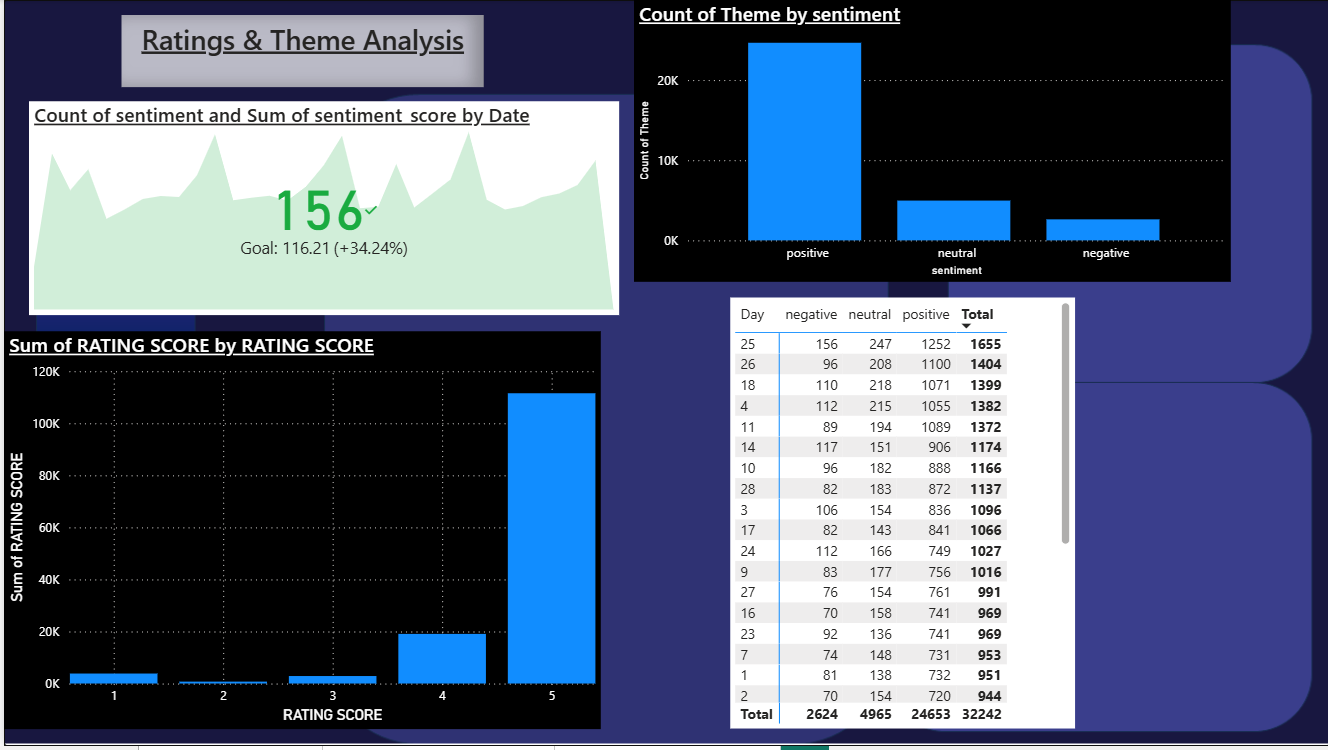

This screenshot's page, from the dashboard's own definition file:
{"tool":"powerbi","page":{"name":"Ratings & Theme Analysis","canvas":[1280,720],"ordinal":2},"visuals":[{"type":"kpi","fields":{"TrendLine":["Sheet1.Date"],"Indicator":["CountNonNull(Sheet1.sentiment)"],"Goal":["Sum(Sheet1.sentiment_score)"]},"box":[24.1,97.7,569.4,206.3],"z":0},{"type":"clusteredColumnChart","fields":{"Category":["Sheet1.RATING SCORE"],"Y":["Sum(Sheet1.RATING SCORE)"]},"box":[0,320,576,384],"z":1000},{"type":"clusteredColumnChart","fields":{"Category":["Sheet1.sentiment"],"Y":["CountNonNull(Sheet1.Theme)"]},"box":[608,0,576,272],"z":2000},{"type":"pivotTable","fields":{"Columns":["Sheet1.sentiment"],"Values":["CountNonNull(Sheet1.sentiment_score)"],"Rows":["Sheet1.Date.Variation.Date Hierarchy.Day"]},"box":[608,288,288,416],"z":3000},{"type":"tableEx","fields":{"Values":["Sheet1.REVIEW","Avg(Sheet1.RATING SCORE)","Sheet1.sentiment","Sheet1.Theme","Sheet1.Date.Variation.Date Hierarchy.Year","Sheet1.Date.Variation.Date Hierarchy.Quarter","Sheet1.Date.Variation.Date Hierarchy.Month","Sheet1.Date.Variation.Date Hierarchy.Day"]},"box":[912,304,368,416],"z":4000},{"type":"textbox","box":[113.4,14.5,349.9,70],"z":5000}]}

Visuals, with their boxes in screenshot pixels (x1, y1, x2, y2), scaled from the page's 1280x720 canvas onto the 1328x750 screenshot:
kpi - Sheet1.Date x CountNonNull(Sheet1.sentiment): box(25, 102, 616, 317)
clusteredColumnChart - Sheet1.RATING SCORE x Sum(Sheet1.RATING SCORE): box(0, 333, 598, 733)
clusteredColumnChart - Sheet1.sentiment x CountNonNull(Sheet1.Theme): box(631, 0, 1228, 283)
pivotTable - Sheet1.sentiment x CountNonNull(Sheet1.sentiment_score): box(631, 300, 930, 733)
tableEx - Sheet1.REVIEW x Avg(Sheet1.RATING SCORE): box(946, 317, 1327, 749)
textbox: box(118, 15, 481, 88)
